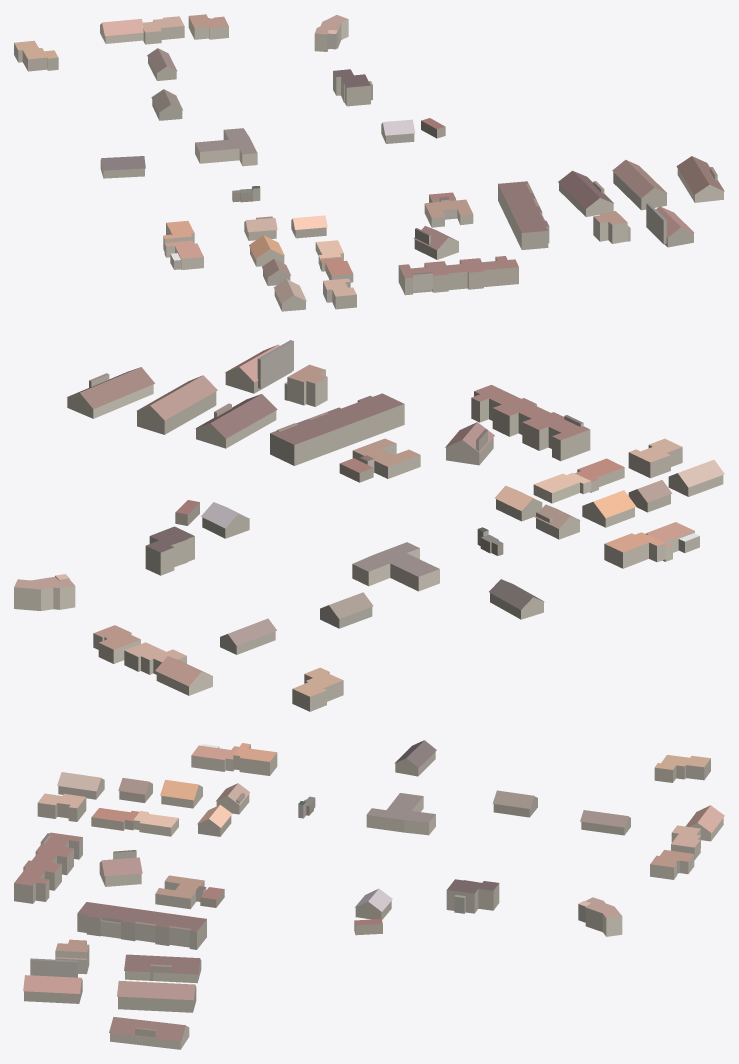
3 renders of one model, top to bottom at view 1: azimuth 30°, elevation 25°; view 2: azimuth 150°, elevation 25°; view 3: azimuth 270°, elevation 25°, orthographic. The views are drawn at different scales.
Visible parts, largest first — view 1: tuile; view 2: tuile; view 3: tuile.
Part boxes in pixels (x1,y1,x2,y2): tuile: [14, 14, 724, 311]; tuile: [14, 340, 724, 711]; tuile: [14, 740, 724, 1049].
Size of the model in its own units: 233 by 23.84 by 257.
